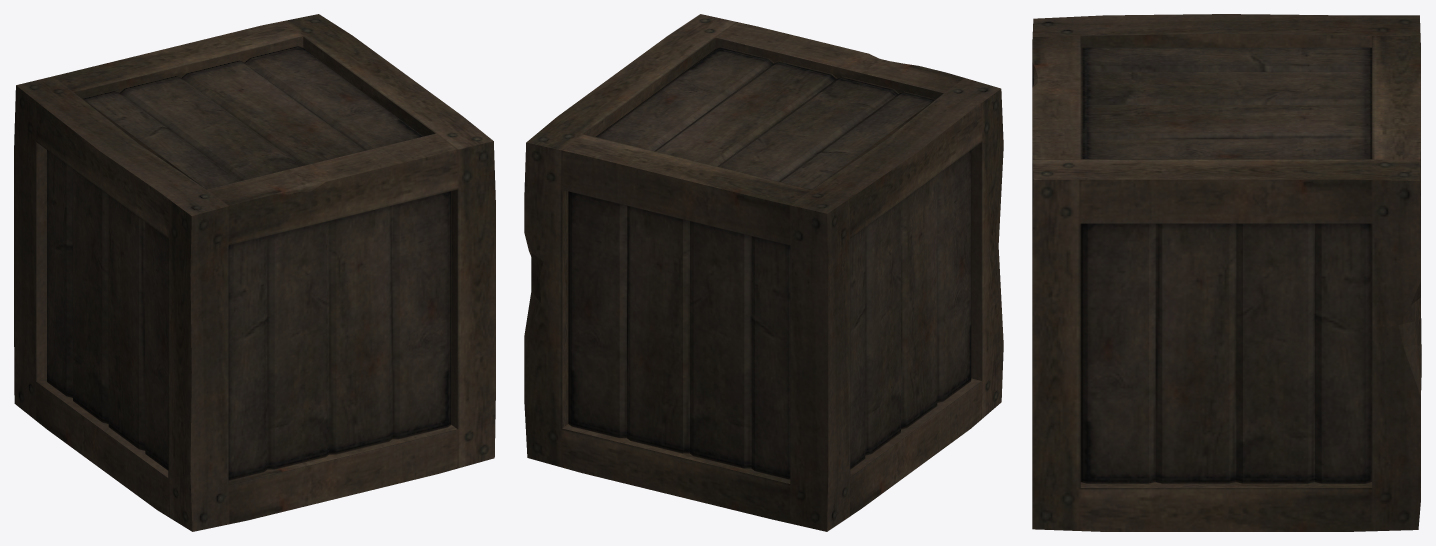
The model's file is wooden_crate_5.obj.
3 renders of one model, left to right at view 1: azimuth 30°, elevation 25°; view 2: azimuth 150°, elevation 25°; view 3: azimuth 270°, elevation 25°, orthographic. The views are drawn at different scales.
Visible parts, largest first — view 1: wooden_crate_5; view 2: wooden_crate_5; view 3: wooden_crate_5.
Boxes of the visible parts, x1,y1,x2,y2 form: wooden_crate_5: (14, 14, 495, 531); wooden_crate_5: (524, 14, 1003, 531); wooden_crate_5: (1032, 14, 1421, 531).
Size of the model in its own units: 1.09 by 1.08 by 1.08.
